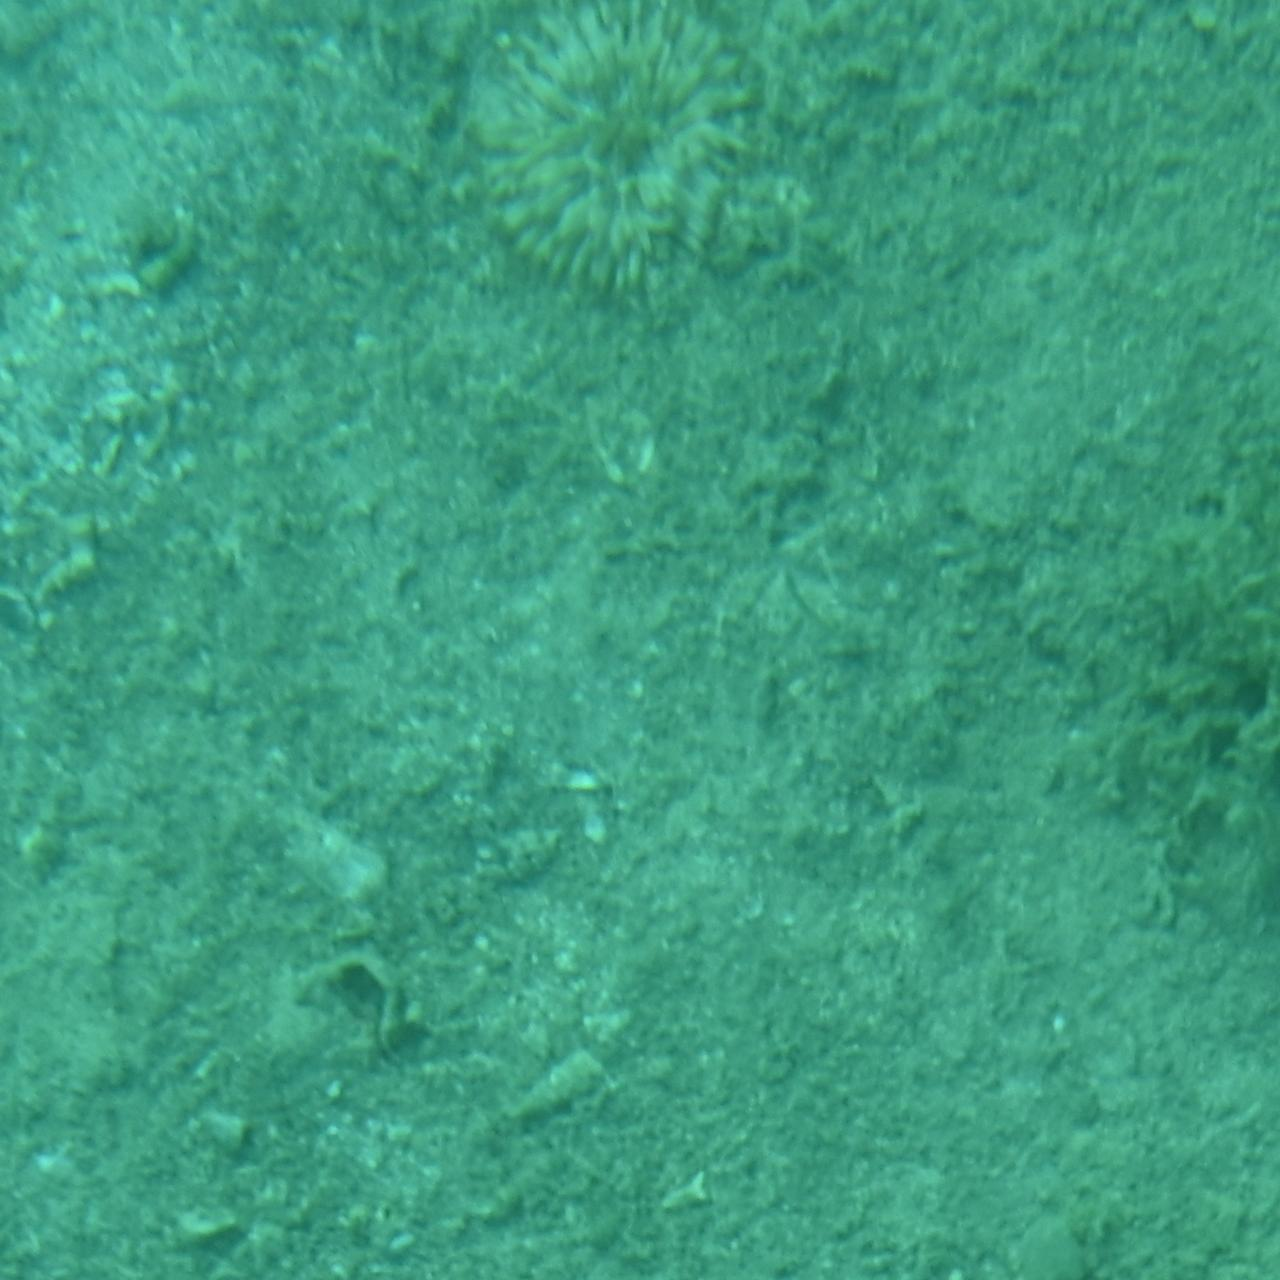Condylactis aurantiaca: (470, 0, 810, 333)
